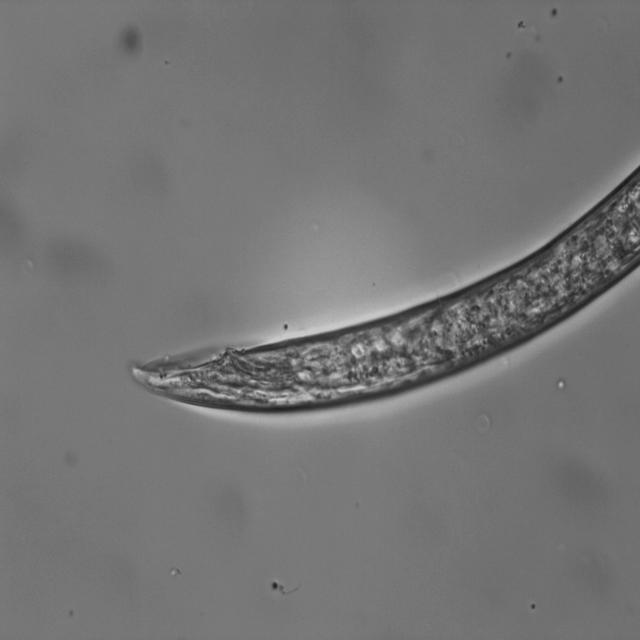Pratylenchus: (121, 130, 640, 420)
